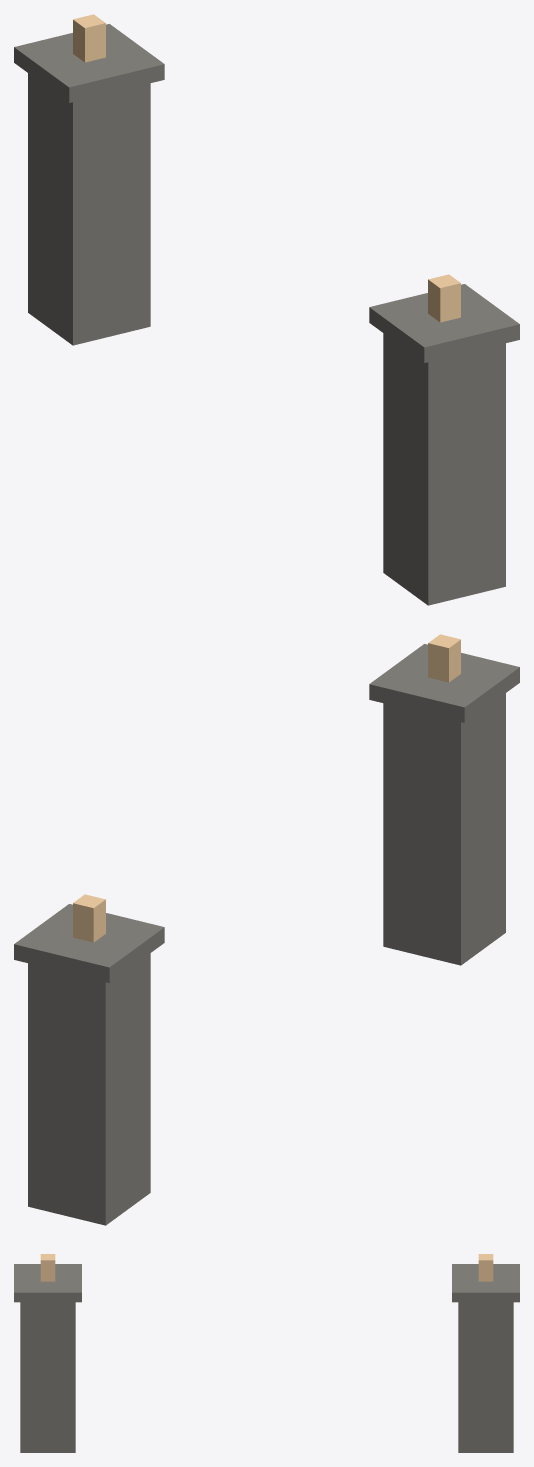
Rendered from SM_Giris_Kapisi_Sutunlar.fbx.
3 views of the same model, one above another, from view 1: azimuth 30°, elevation 25°; view 2: azimuth 150°, elevation 25°; view 3: azimuth 270°, elevation 25° (orthographic). The views are drawn at different scales.
Visible parts, largest first — view 1: Giris_Kapisi_Sutunlar; view 2: Giris_Kapisi_Sutunlar; view 3: Giris_Kapisi_Sutunlar.
Part boxes in pixels (bbox=[...]): Giris_Kapisi_Sutunlar: bbox=[14, 14, 519, 605]; Giris_Kapisi_Sutunlar: bbox=[14, 634, 519, 1225]; Giris_Kapisi_Sutunlar: bbox=[14, 1254, 519, 1452].
Size of the model in its own units: 160 by 478 by 1190.
